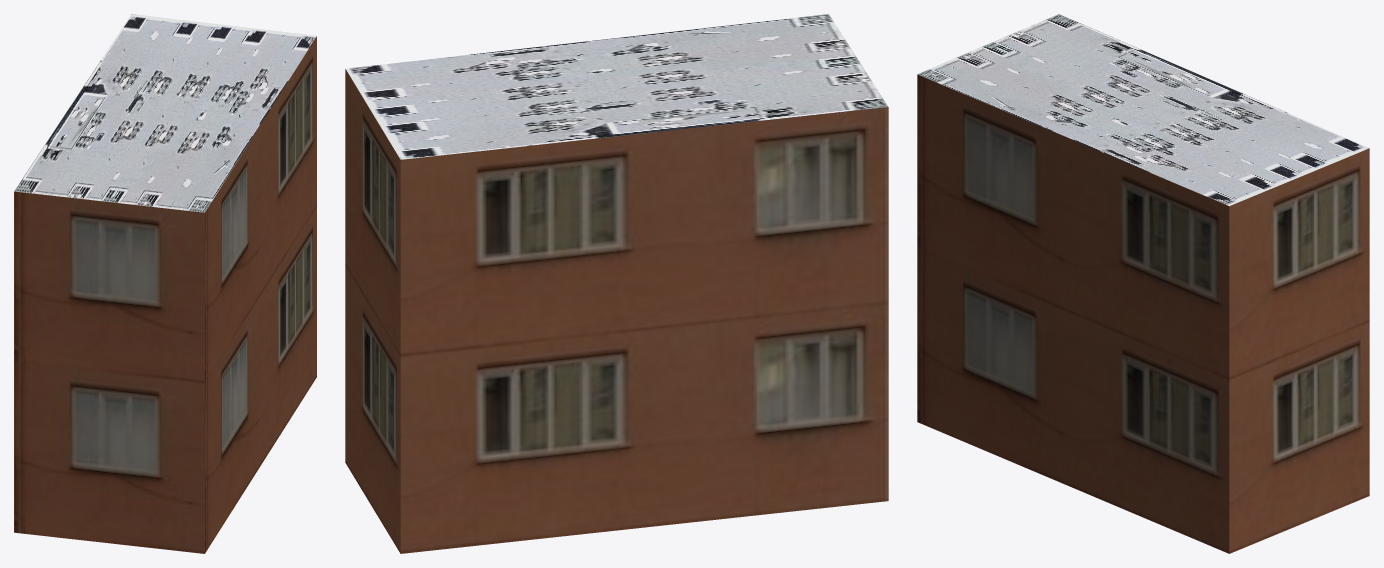
File: ResTex__4342.fbx
3 renders of one model, left to right at view 1: azimuth 30°, elevation 25°; view 2: azimuth 150°, elevation 25°; view 3: azimuth 270°, elevation 25°, orthographic. The views are drawn at different scales.
Visible parts, largest first — view 1: CityEngineMaterial_20_m, CityEngineMaterial_m; view 2: CityEngineMaterial_20_m, CityEngineMaterial_m; view 3: CityEngineMaterial_20_m, CityEngineMaterial_m.
Part boxes in pixels (x1,y1,x2,y2): CityEngineMaterial_20_m: (14, 36, 316, 553); CityEngineMaterial_m: (14, 14, 316, 212); CityEngineMaterial_20_m: (345, 69, 888, 553); CityEngineMaterial_m: (345, 14, 888, 159); CityEngineMaterial_20_m: (917, 74, 1369, 553); CityEngineMaterial_m: (917, 14, 1369, 206).
Size of the model in its own units: 7.11 by 6 by 7.08.
Materials: 2 (2 with a texture image).
